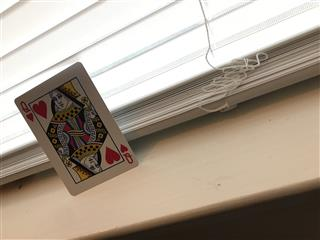QueenOfHearts: (13, 61, 139, 195)
